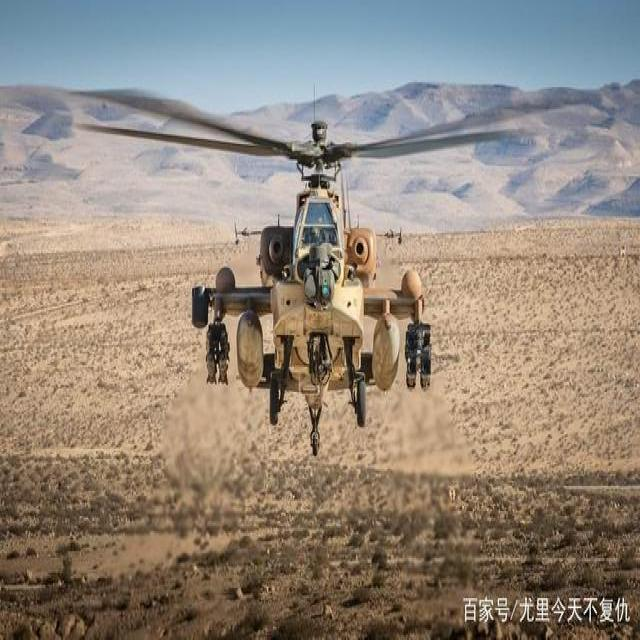MIL_HELO: (83, 80, 542, 452)
